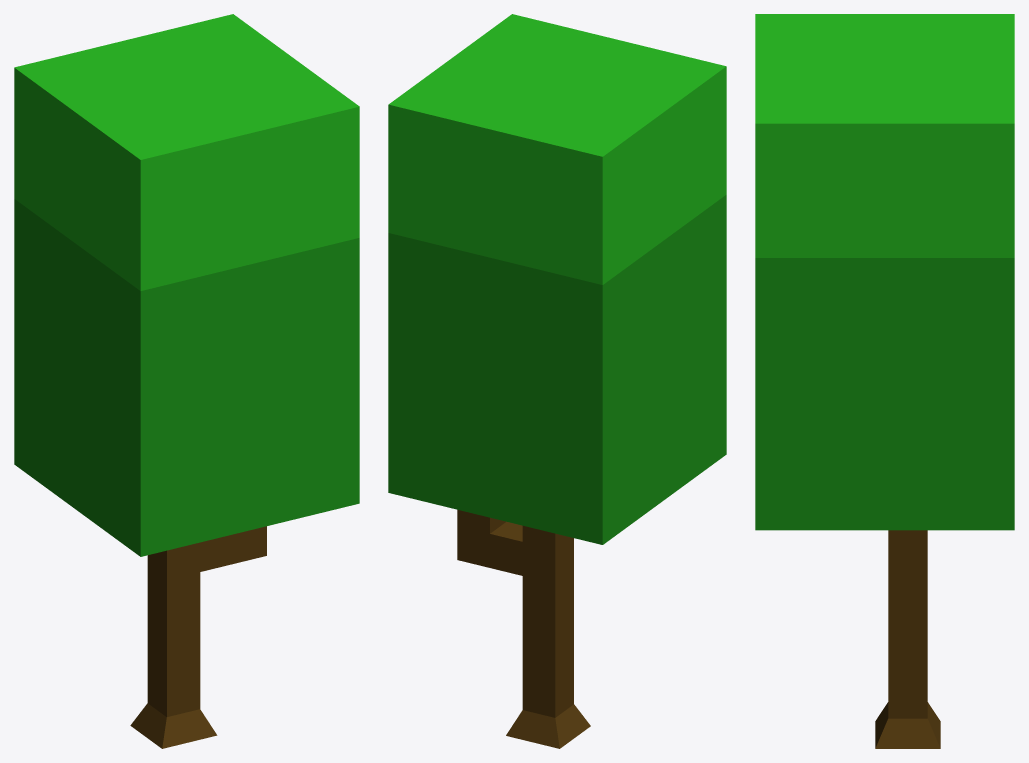
Rendered from tree01.glb.
The picture shows the model from 3 angles, left to right: view 1: azimuth 30°, elevation 25°; view 2: azimuth 150°, elevation 25°; view 3: azimuth 270°, elevation 25°; orthographic projection. The views are drawn at different scales.
Visible parts, largest first — view 1: tree1.003_spring_0; view 2: tree1.003_spring_0; view 3: tree1.003_spring_0.
Boxes of the visible parts, x1,y1,x2,y2 form: tree1.003_spring_0: [14, 14, 359, 748]; tree1.003_spring_0: [388, 14, 726, 748]; tree1.003_spring_0: [755, 14, 1014, 748].
Bounding box in the file's own units: 9.54 × 27.11 × 9.54.
1 material, 1 textured.
